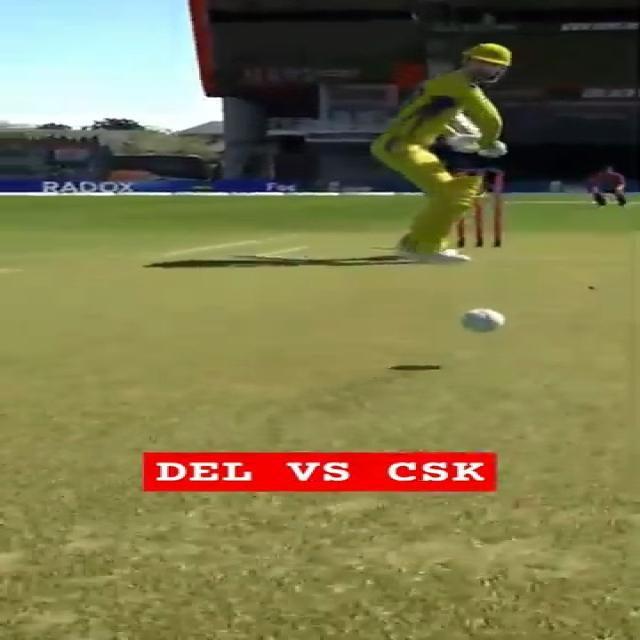ball: (457, 307, 507, 334)
